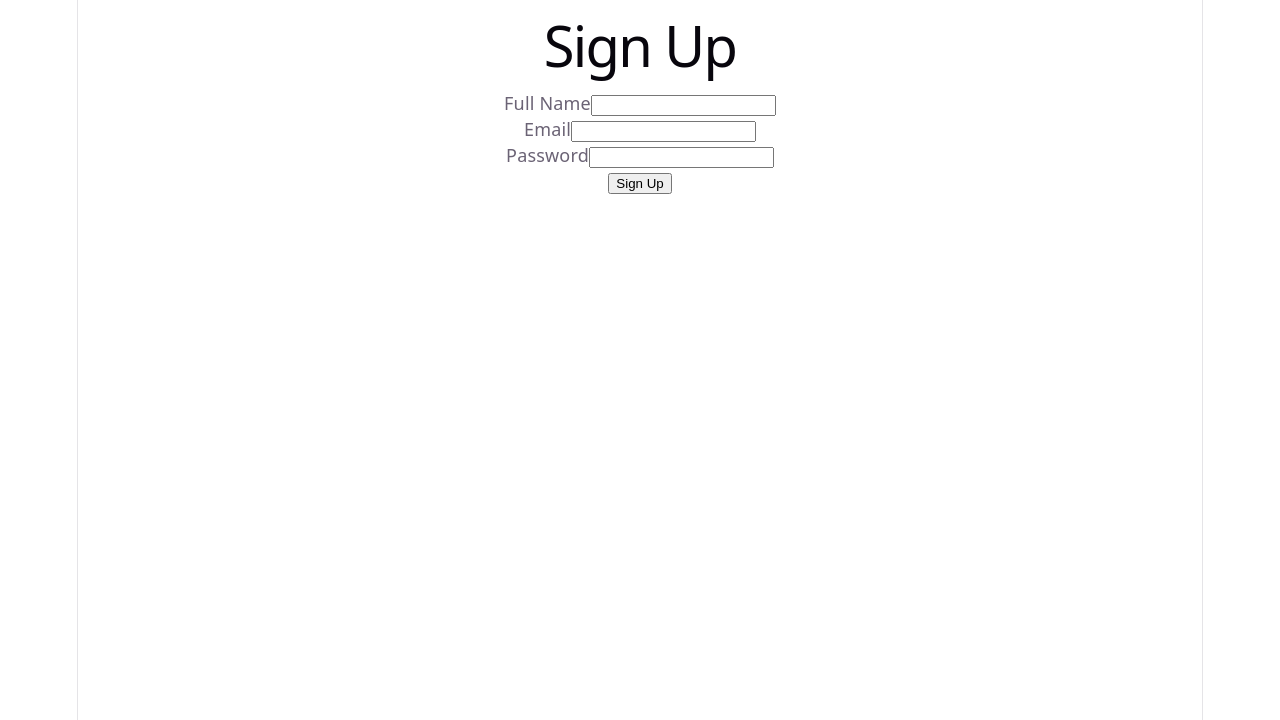
Test case: SignupPage › shows an error message on failed signup
Type "Alice" into the field labelled "Full Name".
click(683, 106); type("Alice")  # box [591,95,776,116]
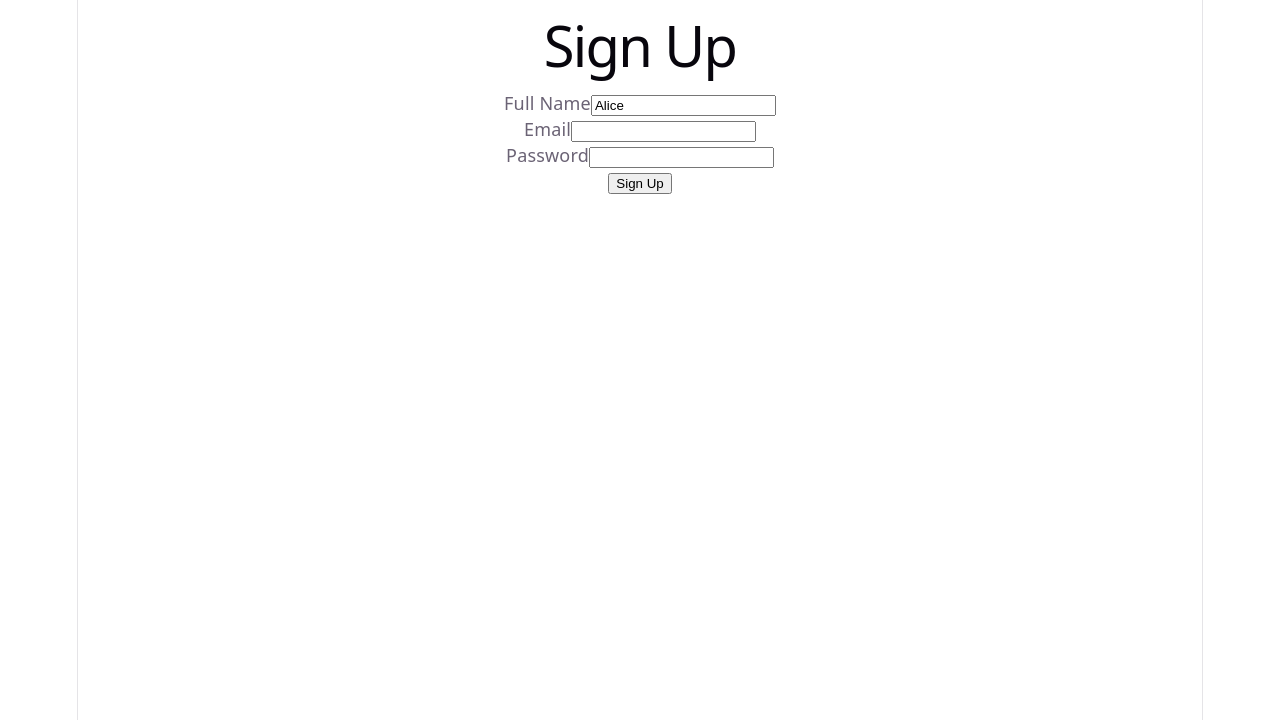
Type "alice@example.com" into the field labelled "Email".
click(664, 132); type("alice@example.com")  # box [571,121,756,142]
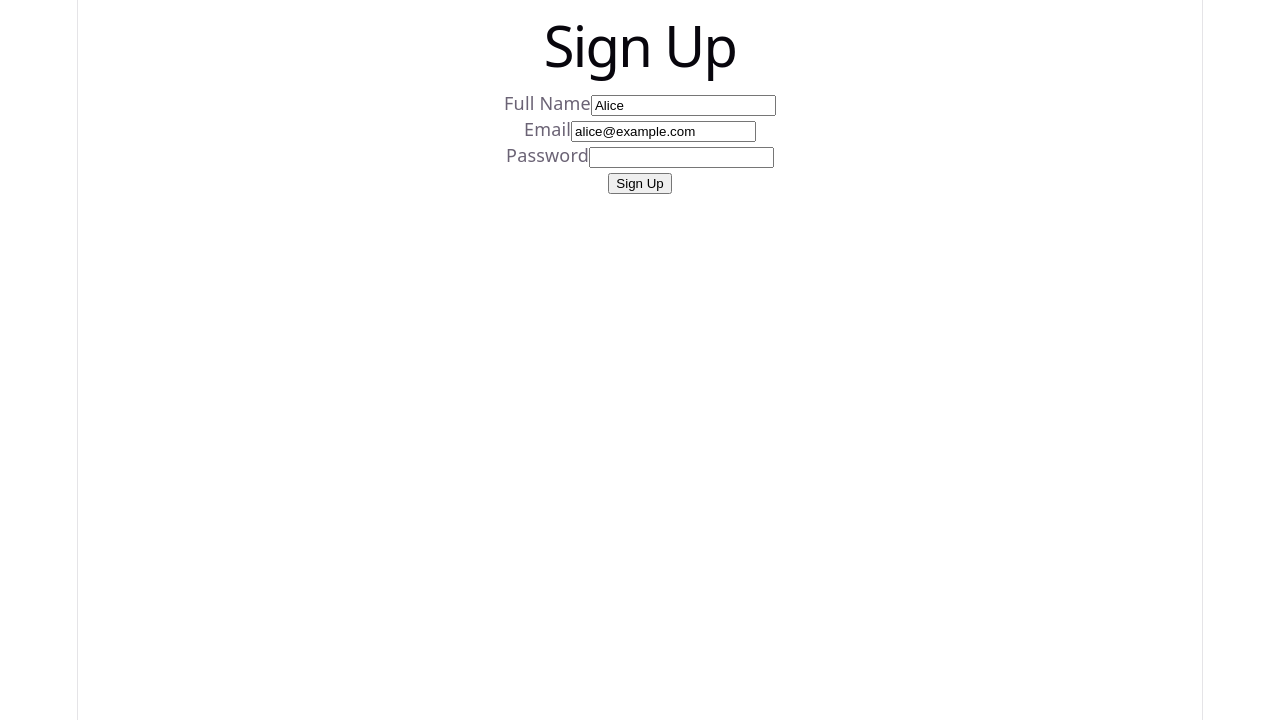
Type "Password1!" into the password field labelled "Password".
click(681, 158); type("Password1!")  # box [589,147,774,168]
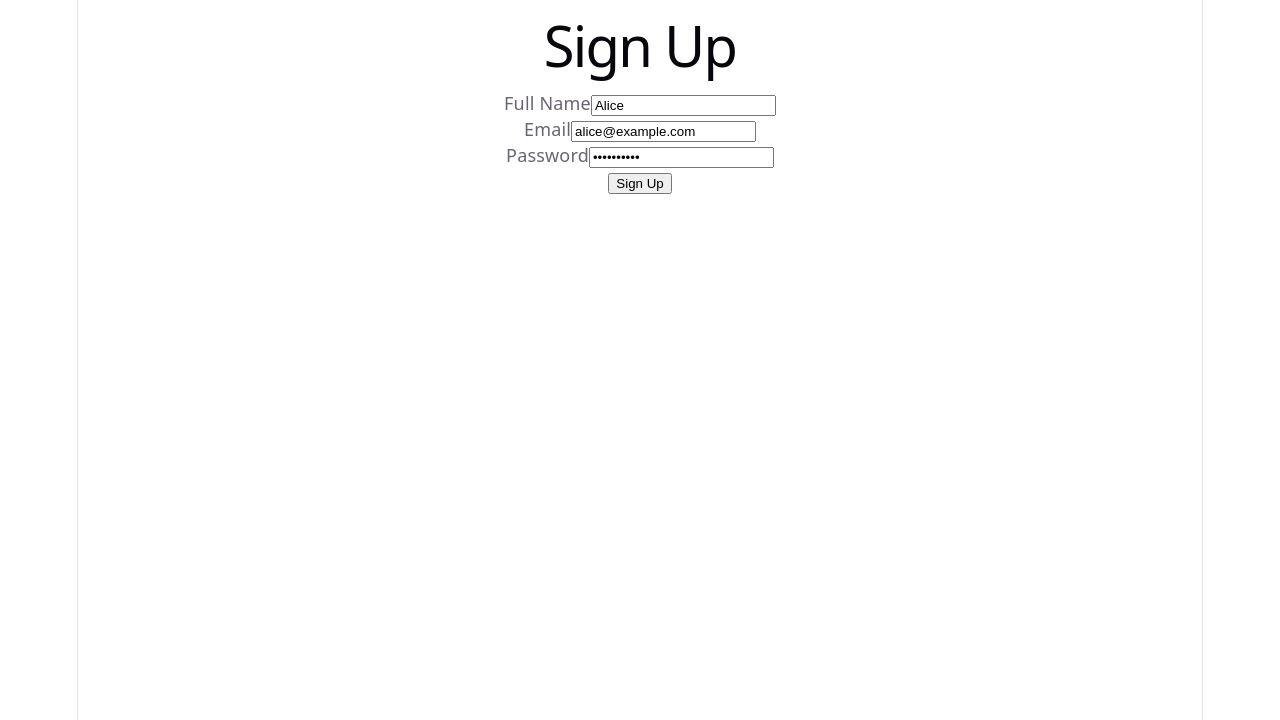
Click the button "Sign Up".
click(640, 184)  # box [608,173,672,194]
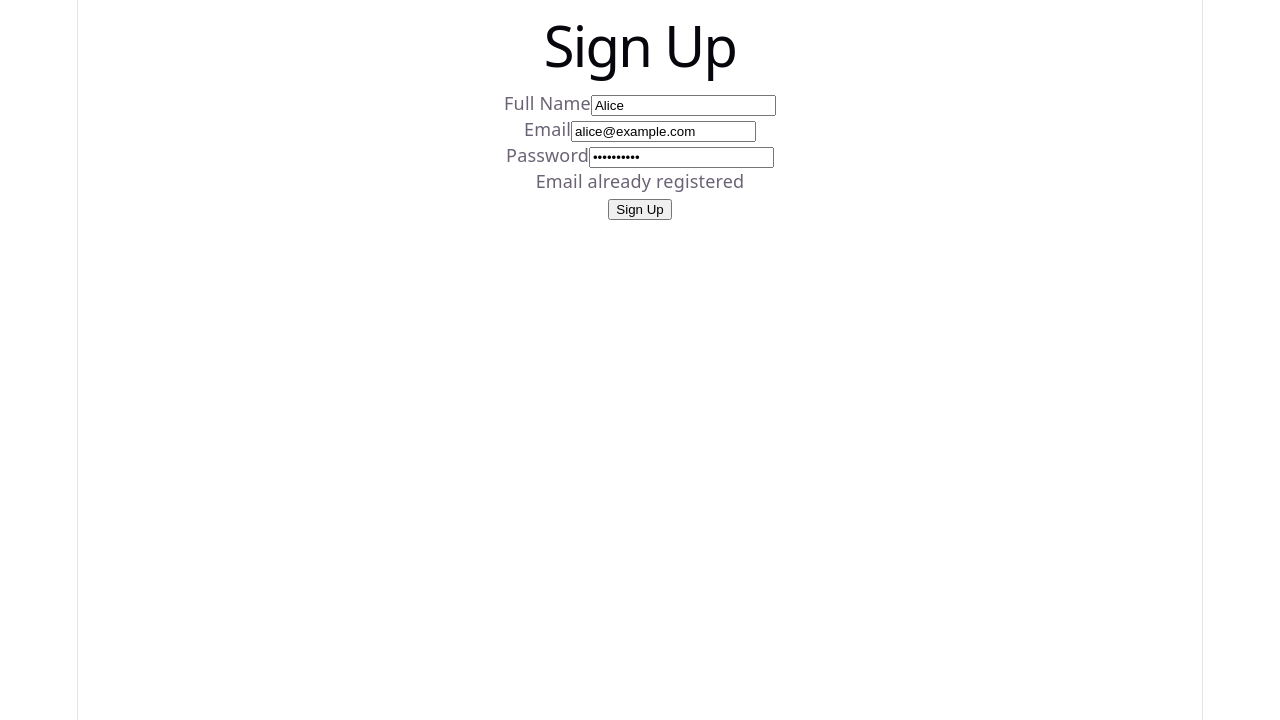
Check: the message "Email already registered" is shown, box [536,169,744,193]
